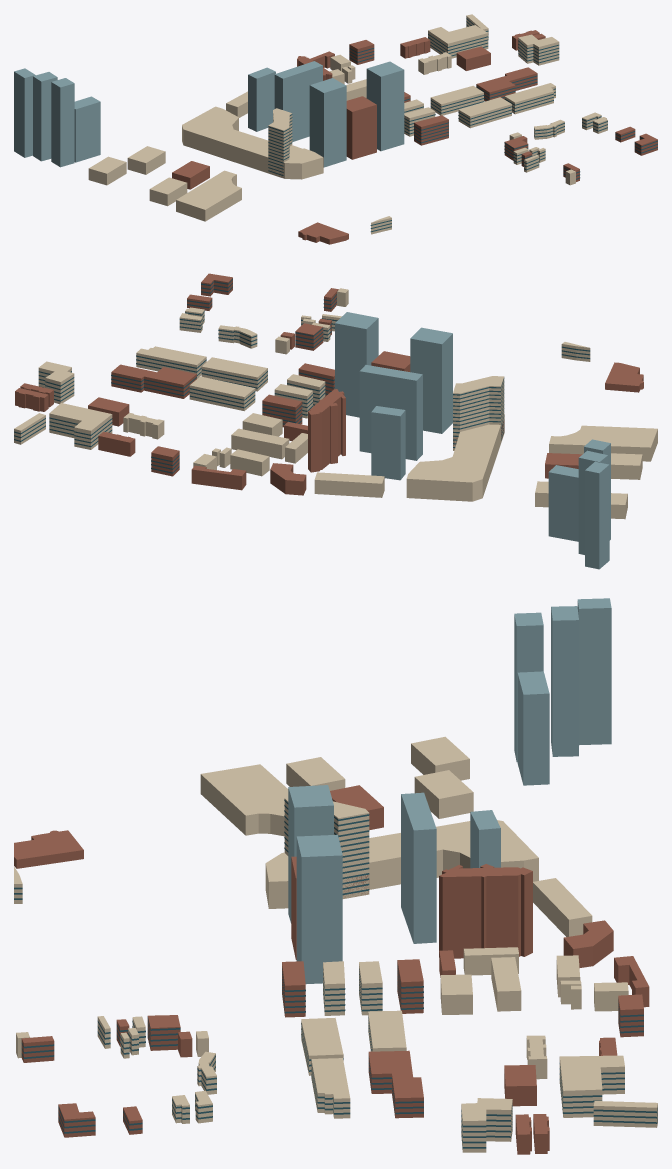
3 views of the same model, one above another, from view 1: azimuth 30°, elevation 25°; view 2: azimuth 150°, elevation 25°; view 3: azimuth 270°, elevation 25° (orthographic). The views are drawn at different scales.
Parts seen in each view (by area): view 1: osm-relation-3898738, osm-way-447126700, osm-way-447126699, osm-way-447124036, osm-way-1235754994, osm-way-447124048, osm-way-447126696, osm-way-447124046, osm-way-447124041, osm-way-447124047, osm-way-447124035, osm-way-505641161 (+21 smaller); view 2: osm-relation-3898738, osm-way-447124036, osm-way-447126700, osm-way-447126699, osm-way-858824280, osm-way-293400230, osm-way-447124041, osm-way-1235754994, osm-way-447124035, osm-way-447124047, osm-way-505641161, osm-way-1333613412 (+31 smaller); view 3: osm-way-858824280, osm-relation-3898738, osm-way-447126699, osm-way-447124036, osm-way-447124041, osm-way-1235754994, osm-way-447124046, osm-way-447124047, osm-way-505641161, osm-way-293400230, osm-way-1333613412, osm-way-447126700 (+29 smaller).
Boxes of the visible parts, x1,y1,x2,y2 form: osm-relation-3898738: (182, 106, 323, 179); osm-way-447126700: (309, 78, 346, 167); osm-way-447126699: (366, 61, 404, 151); osm-way-447124036: (274, 61, 322, 141); osm-way-1235754994: (176, 170, 241, 221); osm-way-447124048: (51, 78, 74, 167); osm-way-447126696: (346, 96, 376, 159); osm-way-447124046: (33, 72, 57, 161); osm-way-447124041: (14, 68, 35, 157); osm-way-447124047: (74, 96, 100, 162); osm-way-447124035: (248, 67, 275, 131); osm-way-505641161: (428, 25, 488, 58); osm-relation-3898738: (406, 414, 504, 501); osm-way-447124036: (359, 365, 422, 460); osm-way-447126700: (410, 327, 452, 433); osm-way-447126699: (335, 312, 378, 417); osm-way-858824280: (308, 389, 345, 472); osm-way-293400230: (453, 376, 504, 450); osm-way-447124041: (585, 461, 609, 569); osm-way-1235754994: (549, 425, 657, 461); osm-way-447124035: (371, 406, 405, 480); osm-way-447124047: (548, 465, 578, 541); osm-way-505641161: (49, 403, 112, 449); osm-way-1333613412: (111, 364, 196, 398); osm-way-858824280: (439, 864, 532, 958); osm-relation-3898738: (265, 820, 538, 908); osm-way-447126699: (296, 834, 342, 984); osm-way-447124036: (401, 792, 436, 943); osm-way-447124041: (577, 598, 611, 745); osm-way-1235754994: (200, 764, 288, 836); osm-way-447124046: (551, 606, 578, 756); osm-way-447124047: (517, 671, 549, 785); osm-way-505641161: (559, 1055, 624, 1117); osm-way-293400230: (284, 797, 369, 898); osm-way-1333613412: (368, 1050, 423, 1118); osm-way-447126700: (288, 785, 333, 923).
Size of the model in its own units: 674 by 102 by 437.
